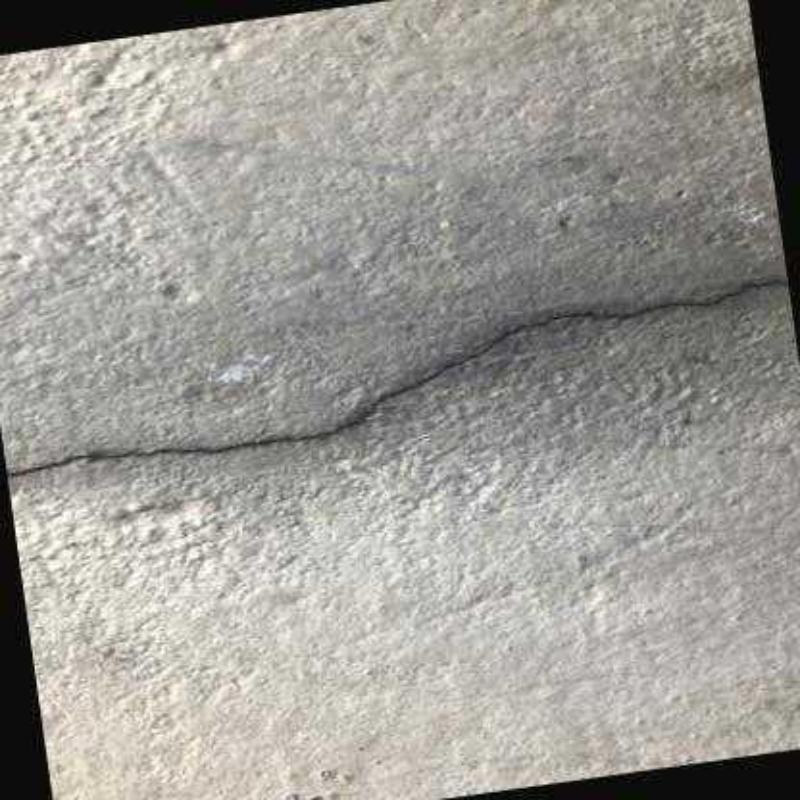pothole: (7, 280, 783, 476)
